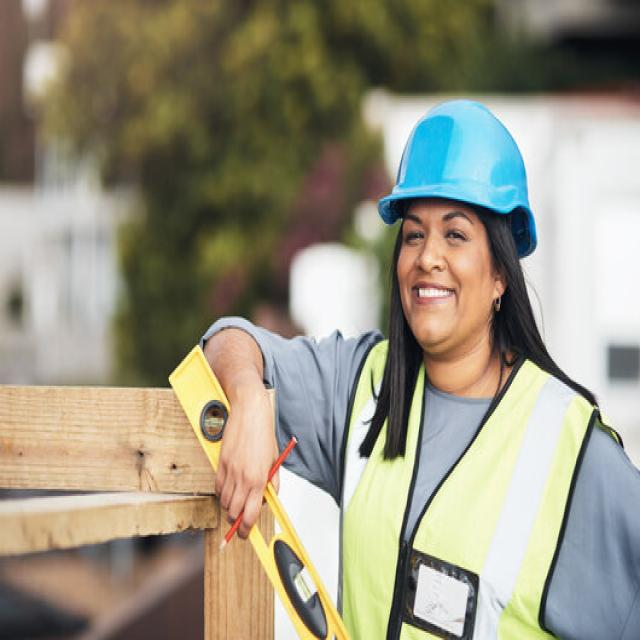safety_jacket: (350, 334, 572, 640)
